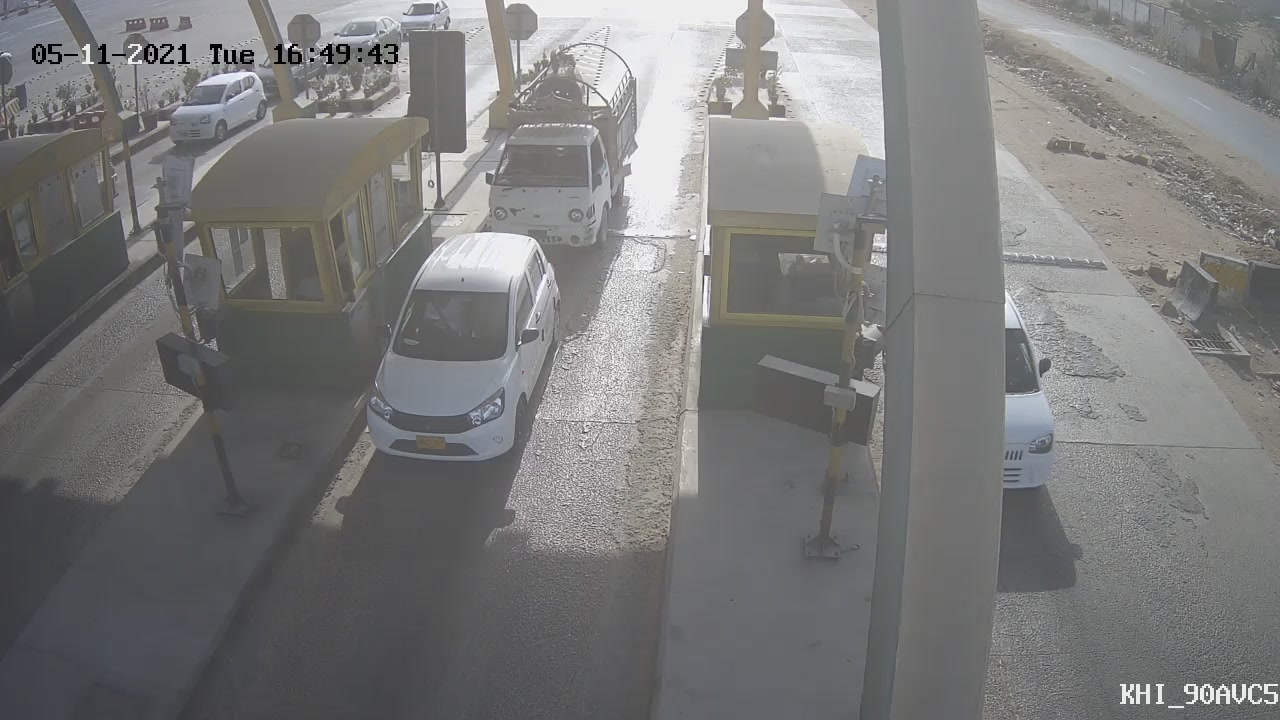F1: (353, 220, 578, 482)
F2: (492, 38, 655, 258)
